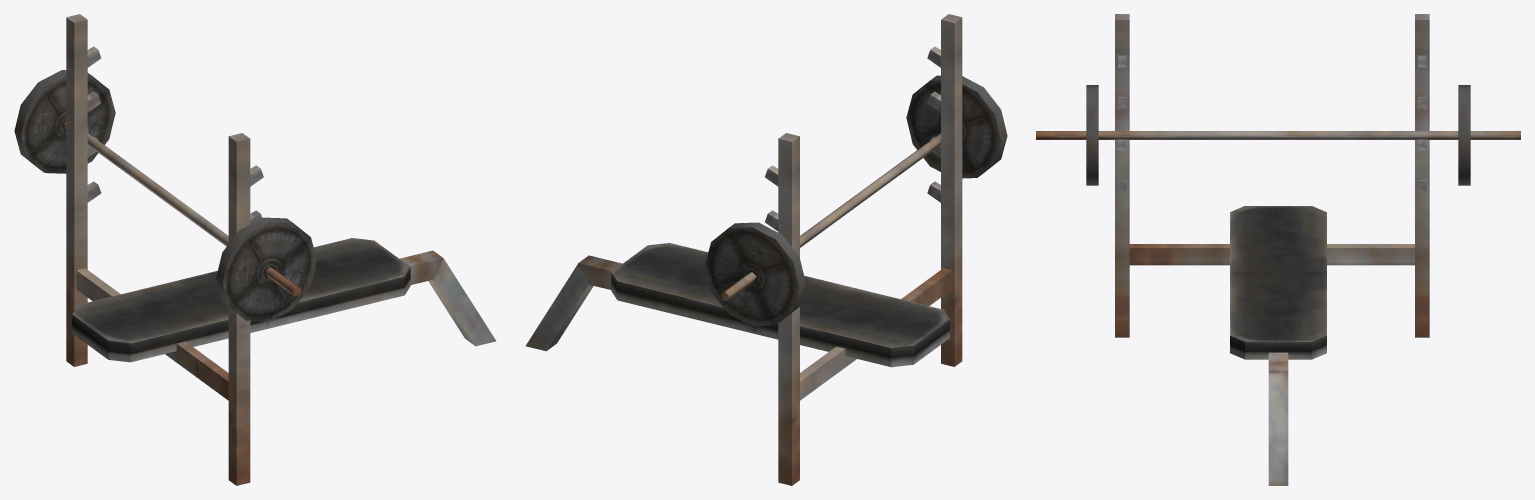
File: Benchpress.glb
3 views of the same model, side by side, from view 1: azimuth 30°, elevation 25°; view 2: azimuth 150°, elevation 25°; view 3: azimuth 270°, elevation 25° (orthographic). The views are drawn at different scales.
Parts seen in each view (by area): view 1: barbell_lifting_bench003; view 2: barbell_lifting_bench003; view 3: barbell_lifting_bench003.
Boxes of the visible parts, x1=… form: barbell_lifting_bench003: x1=14, y1=14, x2=496, y2=485; barbell_lifting_bench003: x1=525, y1=14, x2=1007, y2=485; barbell_lifting_bench003: x1=1036, y1=14, x2=1520, y2=485.
Bounding box in the file's own units: 1.76 × 1.44 × 2.
Materials: 1 (1 with a texture image).
